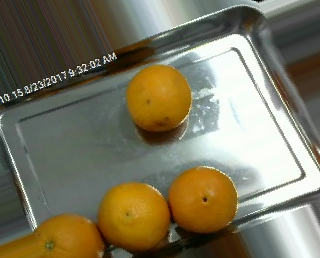Orange: (95, 181, 170, 249), (168, 165, 238, 233), (125, 63, 191, 132)
